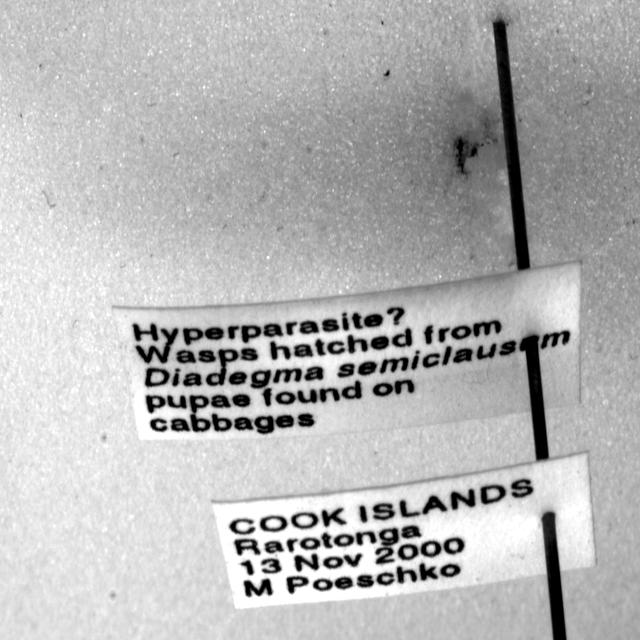typed_label: (114, 262, 581, 439), (212, 454, 595, 609)
